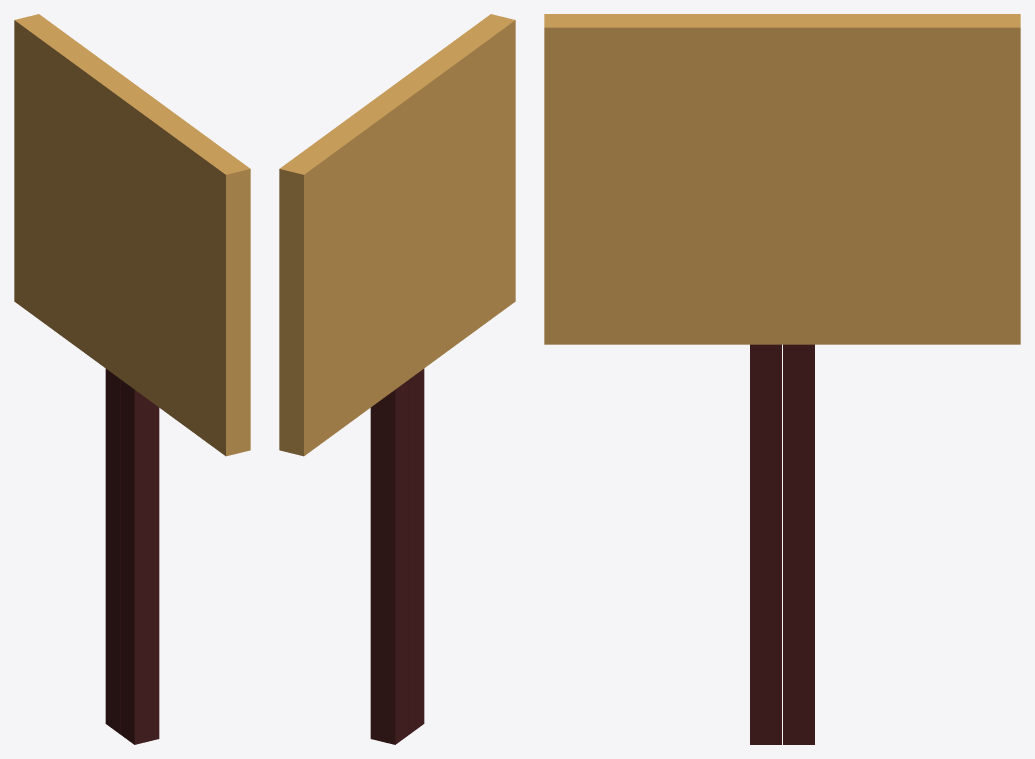
The model's file is KCodeSign.fbx.
3 views of the same model, side by side, from view 1: azimuth 30°, elevation 25°; view 2: azimuth 150°, elevation 25°; view 3: azimuth 270°, elevation 25° (orthographic). The views are drawn at different scales.
Parts seen in each view (by area): view 1: Cube.002; view 2: Cube.002; view 3: Cube.002.
Boxes of the visible parts, x1,y1,x2,y2 form: Cube.002: (14, 14, 250, 744); Cube.002: (279, 14, 515, 744); Cube.002: (544, 14, 1020, 744).
Bounding box in the file's own units: 9.33 × 230 × 139.
